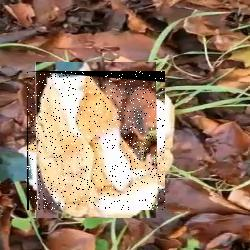restaffald: (27, 71, 165, 210)
